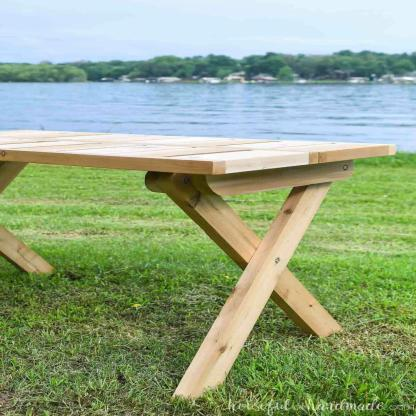table: (0, 125, 401, 406)
